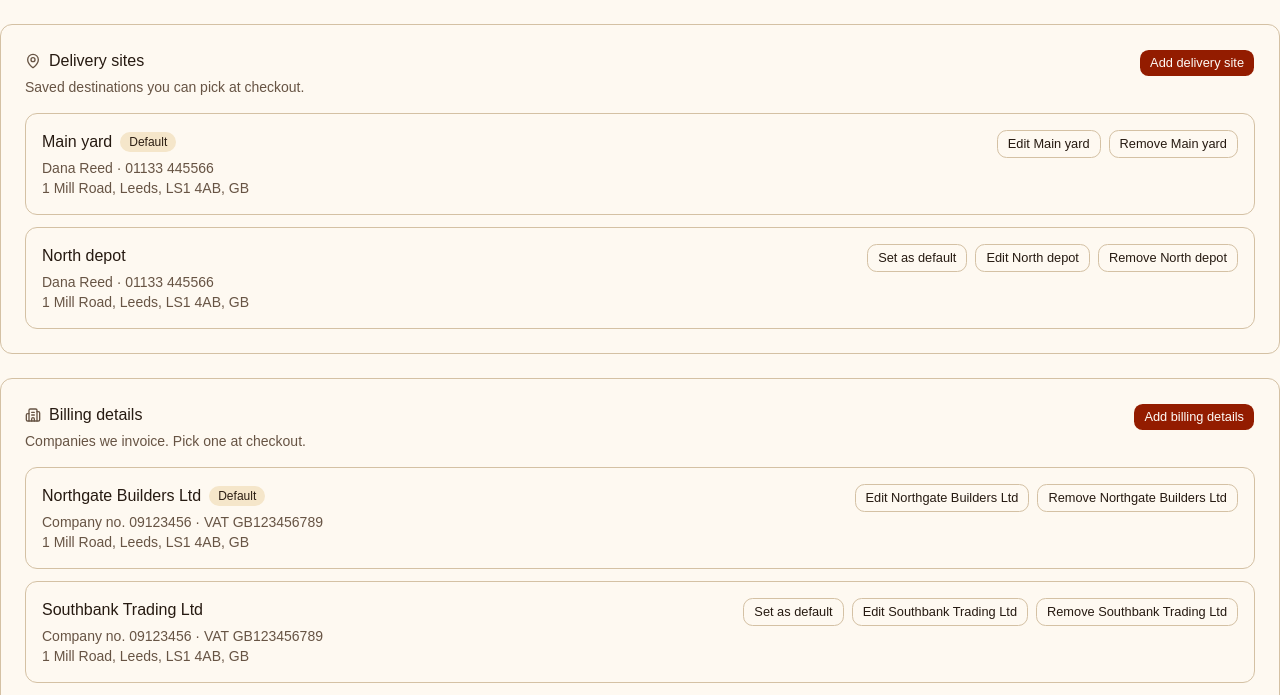
Test: DeliverySitesSection › rejects a digit-free contact phone before it reaches the server
Click the button "Add delivery site" at (1197, 63), box [1139,49,1255,77]
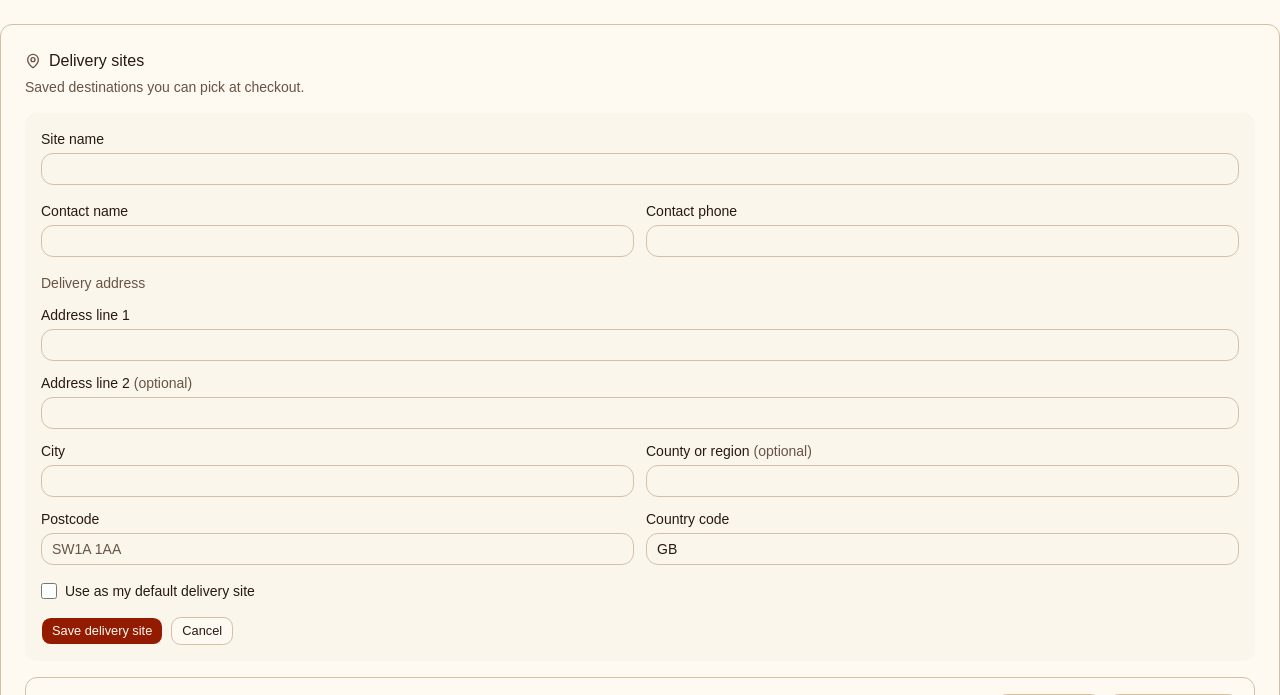
Type "+()- ()" into the field labelled "Contact phone" at (942, 241), box [646,225,1239,257]
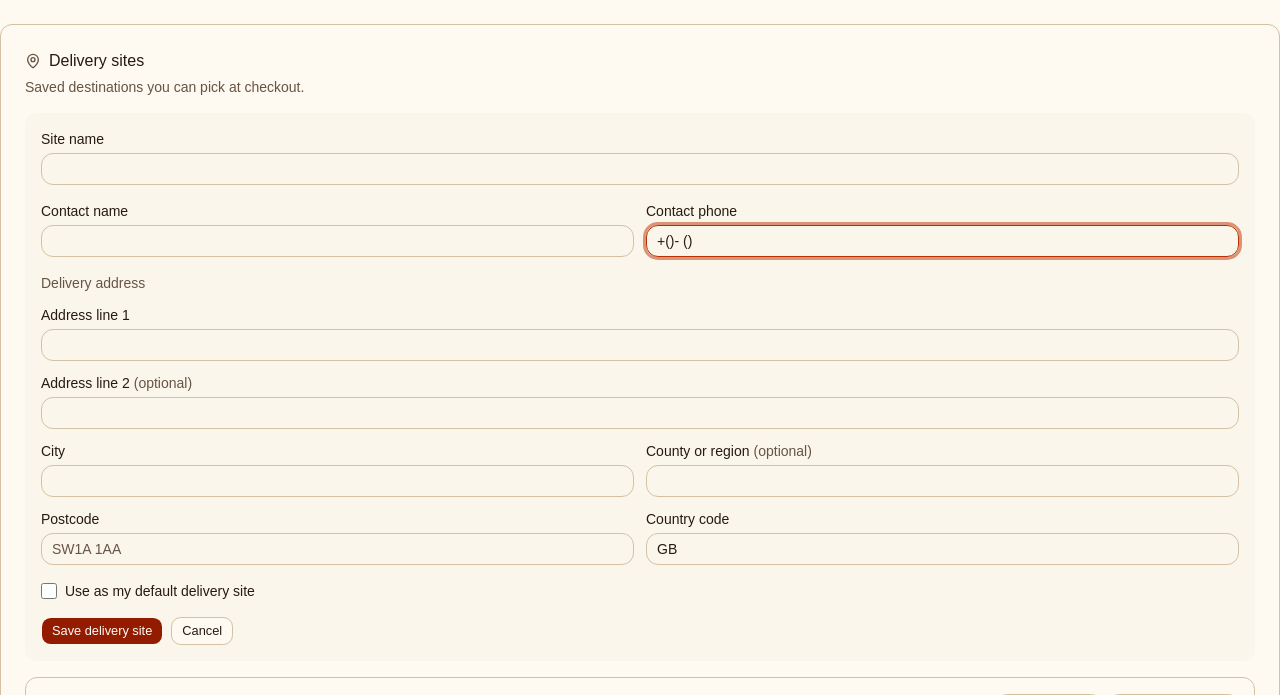
Click the button "Save delivery site" at (102, 631), box [41,617,163,645]
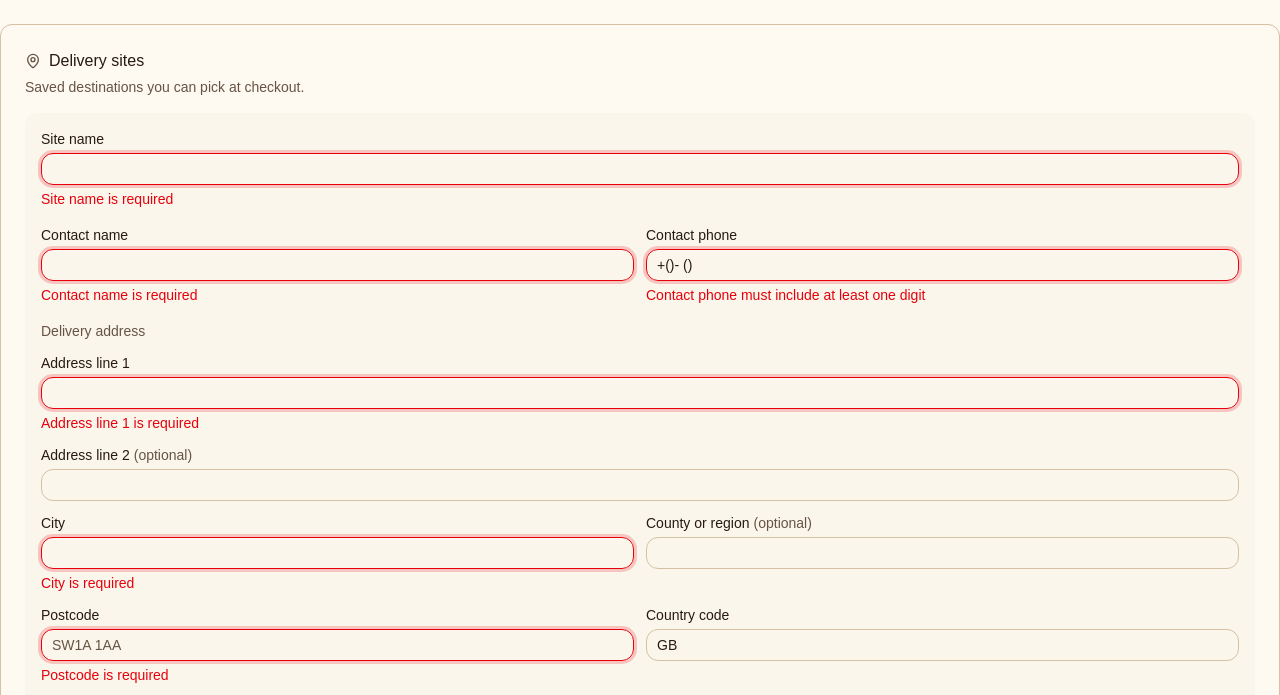
Check: the text "Contact phone must include at least one digit" is shown, box [646,287,925,303]
